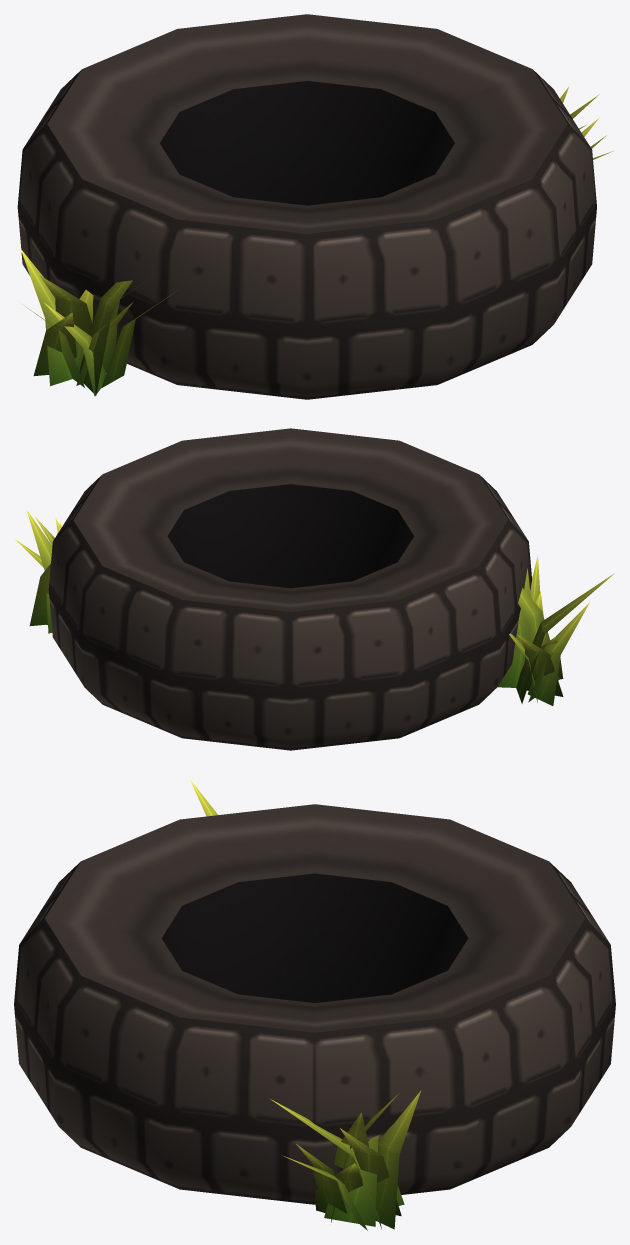
The model's file is Tire_Single.fbx.
3 views of the same model, one above another, from view 1: azimuth 30°, elevation 25°; view 2: azimuth 150°, elevation 25°; view 3: azimuth 270°, elevation 25° (orthographic). The views are drawn at different scales.
Visible parts, largest first — view 1: Tire_Single_Body, Tire_Single_Grass; view 2: Tire_Single_Body, Tire_Single_Grass; view 3: Tire_Single_Body, Tire_Single_Grass.
Part boxes in pixels (x1,y1,x2,y2): Tire_Single_Body: (17, 14, 596, 399); Tire_Single_Grass: (20, 87, 614, 396); Tire_Single_Body: (48, 428, 531, 750); Tire_Single_Grass: (14, 510, 614, 705); Tire_Single_Body: (14, 804, 615, 1204); Tire_Single_Grass: (190, 780, 421, 1230).
Size of the model in its own units: 1.05 by 0.26 by 0.824.
Materials: 1 (1 with a texture image).
